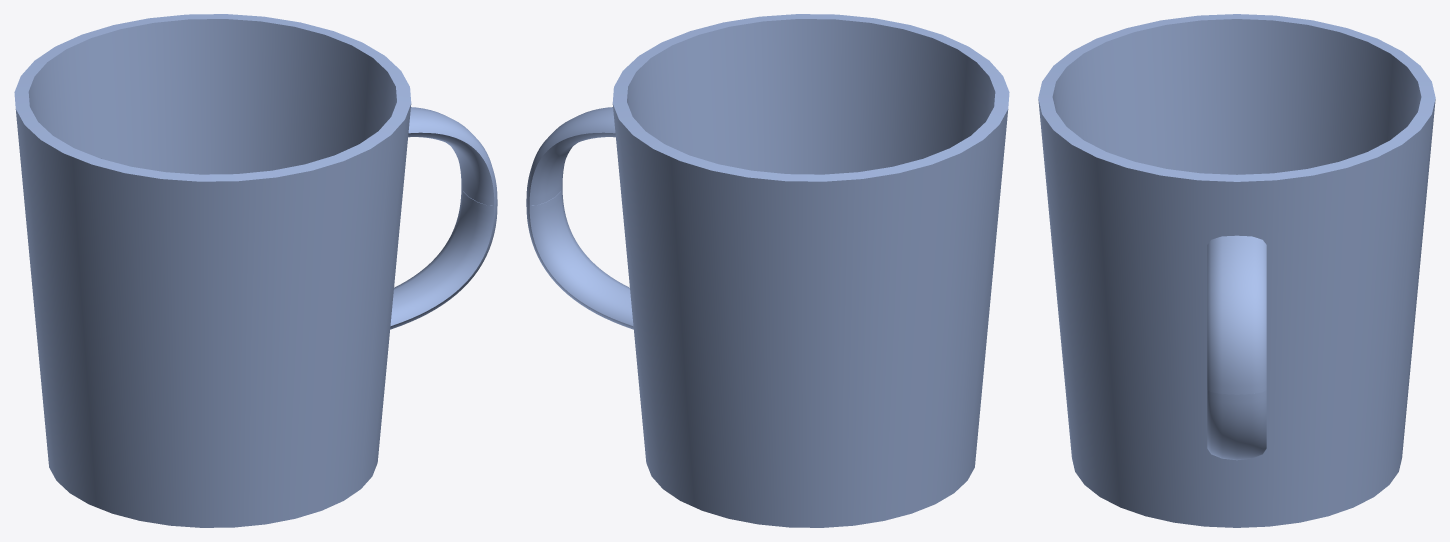
The model's file is ikeaMug2.gltf.
3 views of the same model, side by side, from view 1: azimuth 30°, elevation 25°; view 2: azimuth 150°, elevation 25°; view 3: azimuth 270°, elevation 25° (orthographic).
Parts seen in each view (by area): view 1: IKEAMug2; view 2: IKEAMug2; view 3: IKEAMug2.
Part boxes in pixels (x1,y1,x2,y2): IKEAMug2: (14,14,497,527); IKEAMug2: (526,14,1009,527); IKEAMug2: (1038,14,1435,527).
Size of the model in its own units: 0.1108 by 0.0852 by 0.085.
